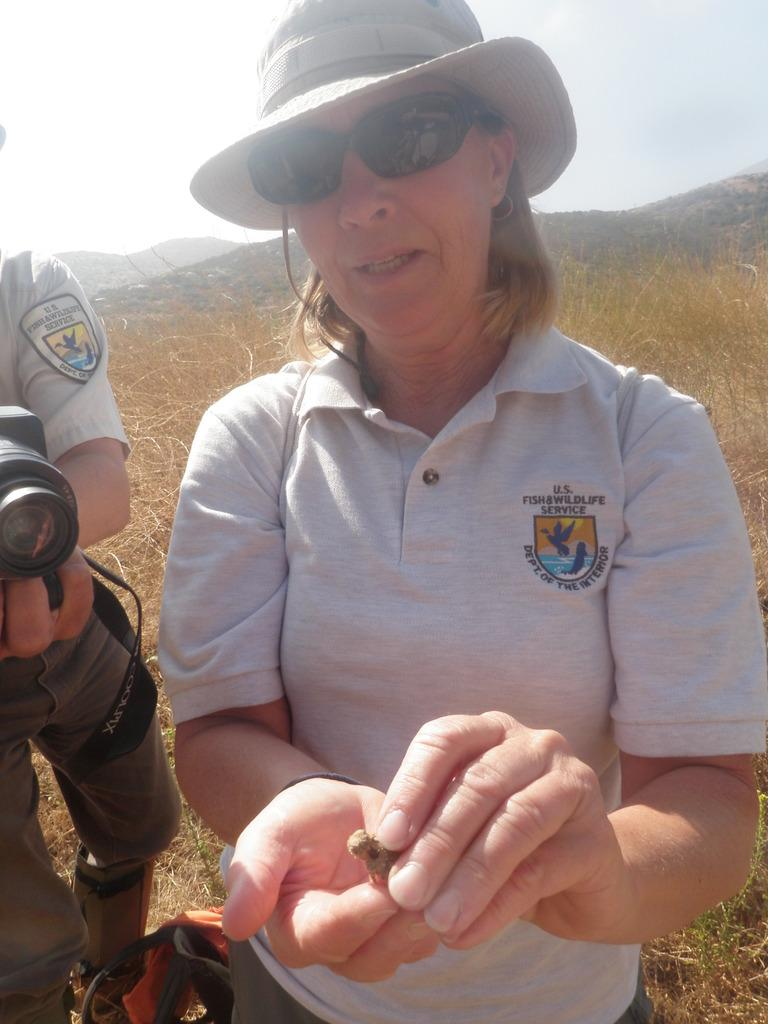no_helmet: (206, 46, 542, 274)
none: (232, 362, 658, 778)
